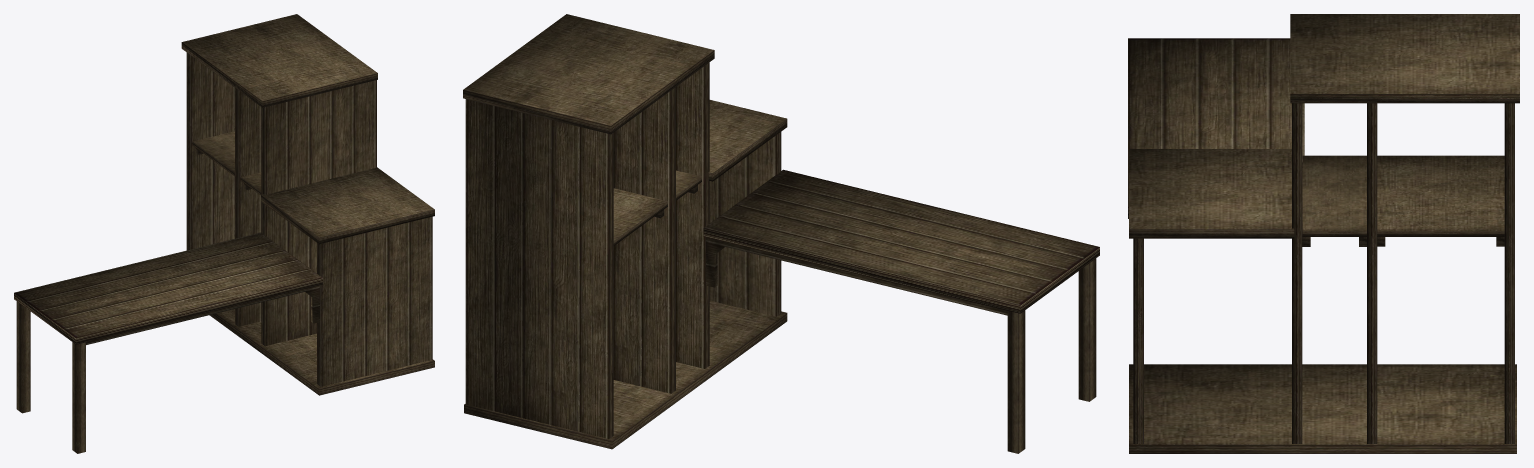
Rendered from GS_VOB_TABLESHELVES_BROWN_01_KOZA.glb.
3 renders of one model, left to right at view 1: azimuth 30°, elevation 25°; view 2: azimuth 150°, elevation 25°; view 3: azimuth 270°, elevation 25°, orthographic. The views are drawn at different scales.
Parts seen in each view (by area): view 1: Mesh; view 2: Mesh; view 3: Mesh.
Boxes of the visible parts, x1,y1,x2,y2 form: Mesh: (14, 14, 434, 453); Mesh: (463, 14, 1099, 453); Mesh: (1128, 14, 1519, 453).
Size of the model in its own units: 2.72 by 1.83 by 1.81.
3 materials, 3 textured.
